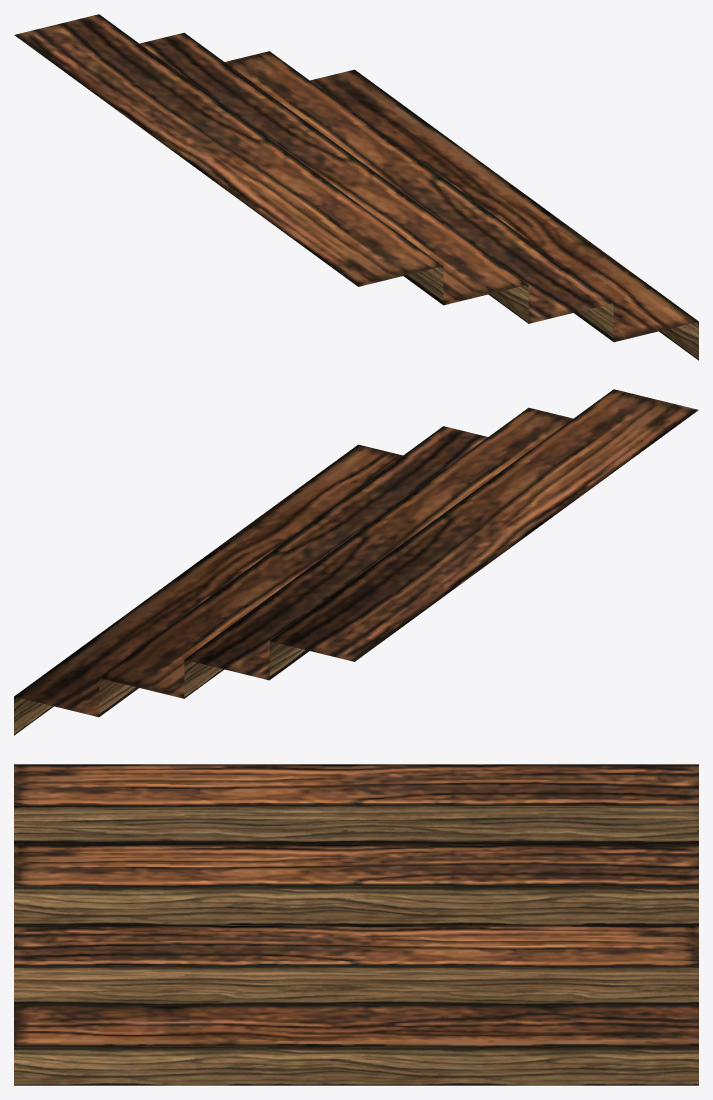
Rendered from LAKETOWN_EXTERIOR_PS_LT_STEP_12.fbx.
3 renders of one model, top to bottom at view 1: azimuth 30°, elevation 25°; view 2: azimuth 150°, elevation 25°; view 3: azimuth 270°, elevation 25°, orthographic.
Parts seen in each view (by area): view 1: LAKETOWN_EXTERIOR_PS_LT_STEP_12; view 2: LAKETOWN_EXTERIOR_PS_LT_STEP_12; view 3: LAKETOWN_EXTERIOR_PS_LT_STEP_12.
Boxes of the visible parts, <box> form: LAKETOWN_EXTERIOR_PS_LT_STEP_12: <box>14,14,698,360</box>; LAKETOWN_EXTERIOR_PS_LT_STEP_12: <box>14,389,698,735</box>; LAKETOWN_EXTERIOR_PS_LT_STEP_12: <box>14,764,698,1085</box>.
Bounding box in the file's own units: 20000 × 8804 × 35004.
2 materials, 2 textured.
